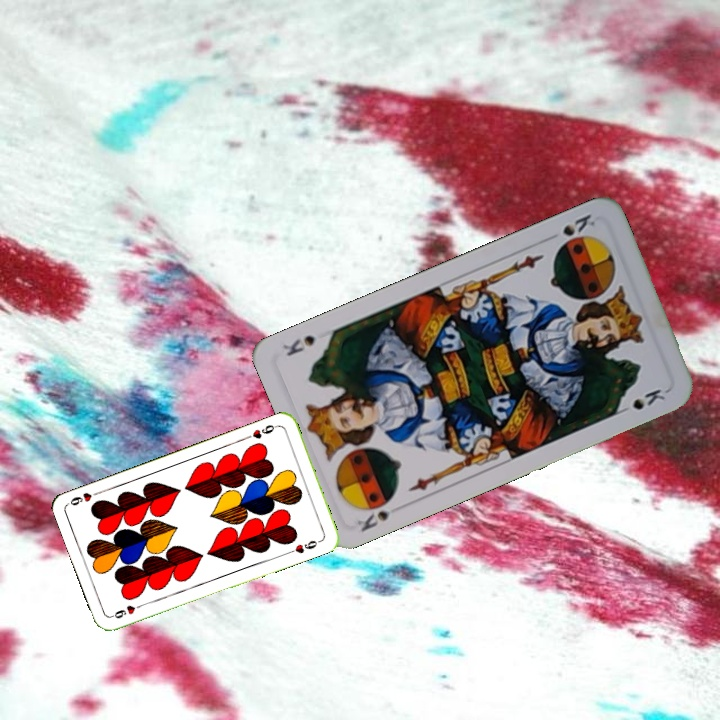H9: (108, 600, 147, 621), (248, 421, 281, 441)
SK: (353, 493, 406, 535), (558, 210, 598, 239)
